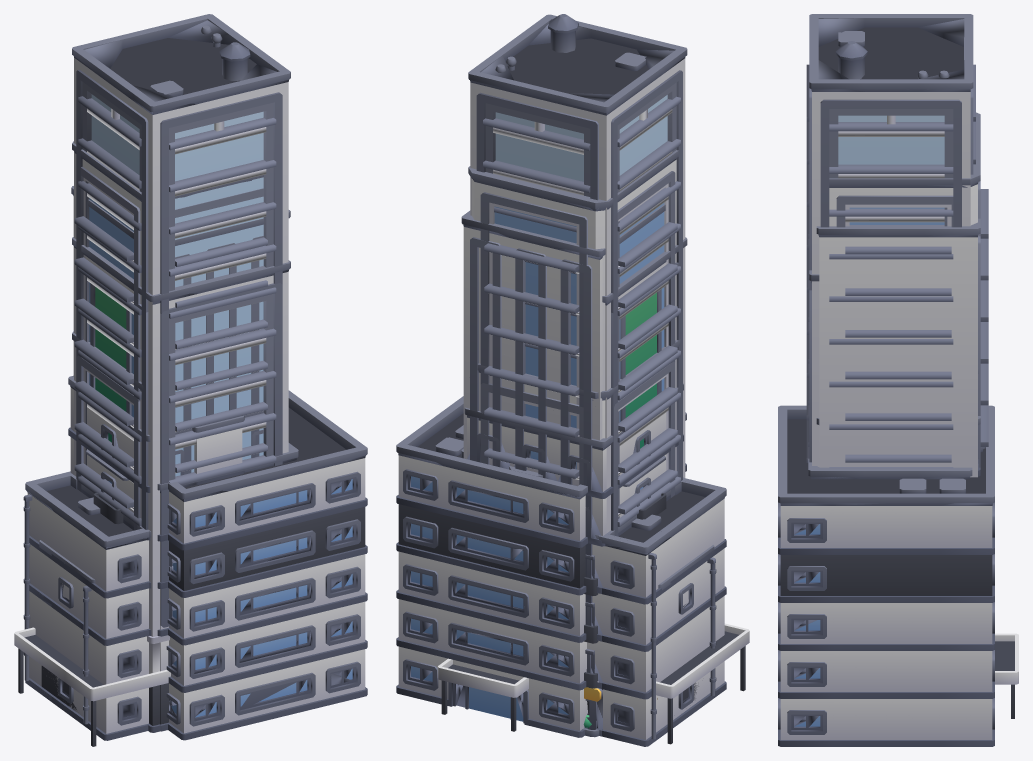
Rendered from commercial.glb.
3 views of the same model, side by side, from view 1: azimuth 30°, elevation 25°; view 2: azimuth 150°, elevation 25°; view 3: azimuth 270°, elevation 25° (orthographic).
Visible parts, largest first — view 1: building-n, building-skyscraper-d, building-skyscraper-d__lod, building-n__lod, building-skyscraper-c, building-j, building-skyscraper-b, building-j__lod, building-skyscraper-e, building-skyscraper-a, building-skyscraper-c__lod, building-k (+2 smaller); view 2: building-n, building-skyscraper-d, building-skyscraper-b, building-j, building-n__lod, building-skyscraper-e, building-skyscraper-d__lod, building-j__lod, building-skyscraper-e__lod, building-m, building-skyscraper-a, building-skyscraper-b__lod (+4 smaller); view 3: building-n__lod, building-skyscraper-e, building-skyscraper-d, building-n, building-skyscraper-d__lod, building-skyscraper-b, building-skyscraper-c, building-skyscraper-b__lod, building-l, building-skyscraper-a.
Part boxes in pixels (bbox=[...]): building-n: bbox=[14, 390, 367, 746]; building-skyscraper-d: bbox=[72, 14, 290, 731]; building-skyscraper-d__lod: bbox=[74, 20, 288, 725]; building-n__lod: bbox=[20, 394, 365, 732]; building-skyscraper-c: bbox=[72, 237, 290, 732]; building-j: bbox=[23, 471, 149, 740]; building-skyscraper-b: bbox=[72, 141, 267, 518]; building-j__lod: bbox=[24, 475, 148, 739]; building-skyscraper-e: bbox=[71, 186, 290, 480]; building-skyscraper-a: bbox=[72, 331, 267, 530]; building-skyscraper-c__lod: bbox=[74, 246, 288, 725]; building-k: bbox=[39, 540, 95, 727]; building-n: bbox=[396, 396, 749, 744]; building-skyscraper-d: bbox=[468, 14, 687, 530]; building-skyscraper-b: bbox=[468, 150, 678, 730]; building-j: bbox=[583, 478, 726, 746]; building-n__lod: bbox=[398, 396, 741, 730]; building-skyscraper-e: bbox=[461, 204, 665, 729]; building-skyscraper-d__lod: bbox=[470, 24, 685, 532]; building-j__lod: bbox=[603, 481, 725, 739]; building-skyscraper-e__lod: bbox=[463, 215, 648, 713]; building-m: bbox=[464, 383, 683, 736]; building-skyscraper-a: bbox=[477, 339, 680, 729]; building-skyscraper-b__lod: bbox=[473, 159, 676, 714]; building-n__lod: bbox=[778, 415, 1014, 739]; building-skyscraper-e: bbox=[816, 218, 980, 477]; building-skyscraper-d: bbox=[806, 14, 975, 467]; building-n: bbox=[778, 405, 1018, 746]; building-skyscraper-d__lod: bbox=[811, 18, 970, 466]; building-skyscraper-b: bbox=[808, 112, 988, 462]; building-skyscraper-c: bbox=[806, 270, 953, 468]; building-skyscraper-b__lod: bbox=[829, 152, 980, 226]; building-l: bbox=[808, 447, 985, 479]; building-skyscraper-a: bbox=[808, 368, 988, 457].
Size of the model in its own units: 2.32 by 5.47 by 1.82.
Materials: 1 (1 with a texture image).
